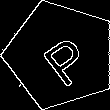P_NW: (30, 24, 92, 86)
